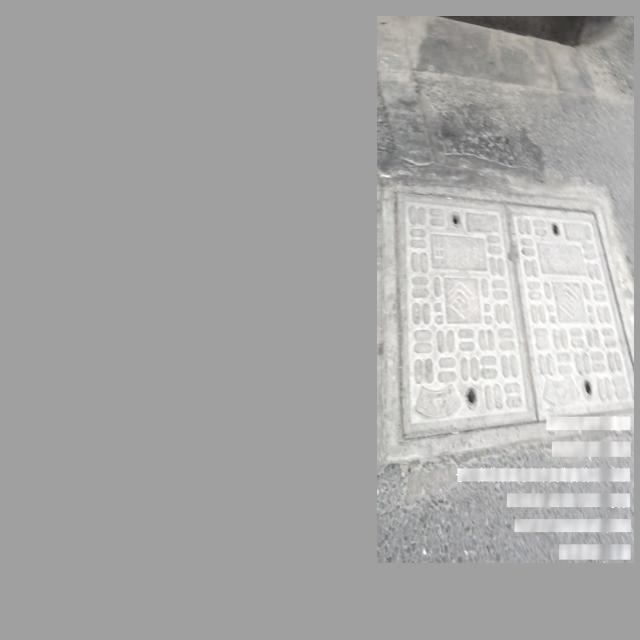good: (387, 187, 633, 462)
